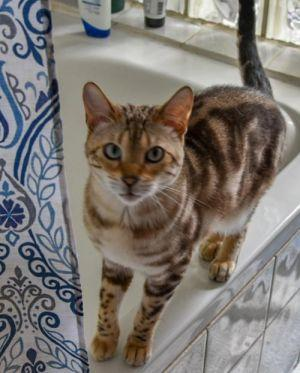bengal: (77, 77, 202, 208)
